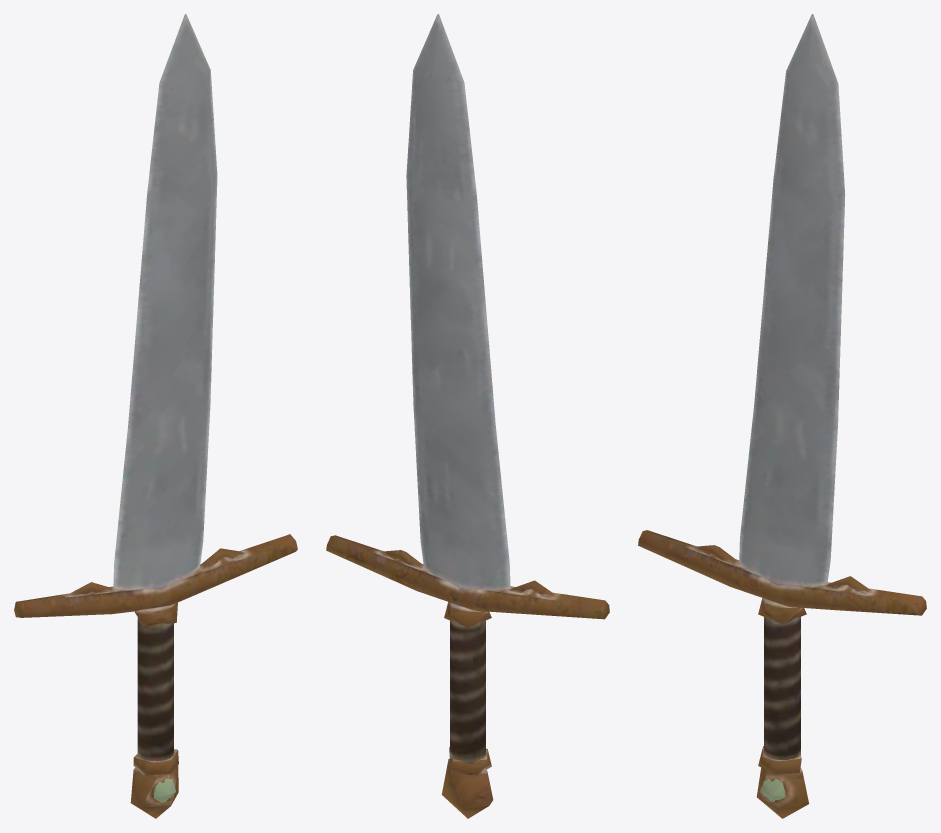
Rendered from eq_sword_4_lod2.glb.
3 views of the same model, side by side, from view 1: azimuth 30°, elevation 25°; view 2: azimuth 150°, elevation 25°; view 3: azimuth 330°, elevation 25° (orthographic).
Parts seen in each view (by area): view 1: eq_sword_4_lod2; view 2: eq_sword_4_lod2; view 3: eq_sword_4_lod2.
Part boxes in pixels (left/top/right/bottom): eq_sword_4_lod2: left=14, top=14, right=297, bottom=818; eq_sword_4_lod2: left=326, top=14, right=609, bottom=818; eq_sword_4_lod2: left=638, top=14, right=926, bottom=818.
Bounding box in the file's own units: 0.4203 × 1.16 × 0.0624.
Materials: 1 (1 with a texture image).
